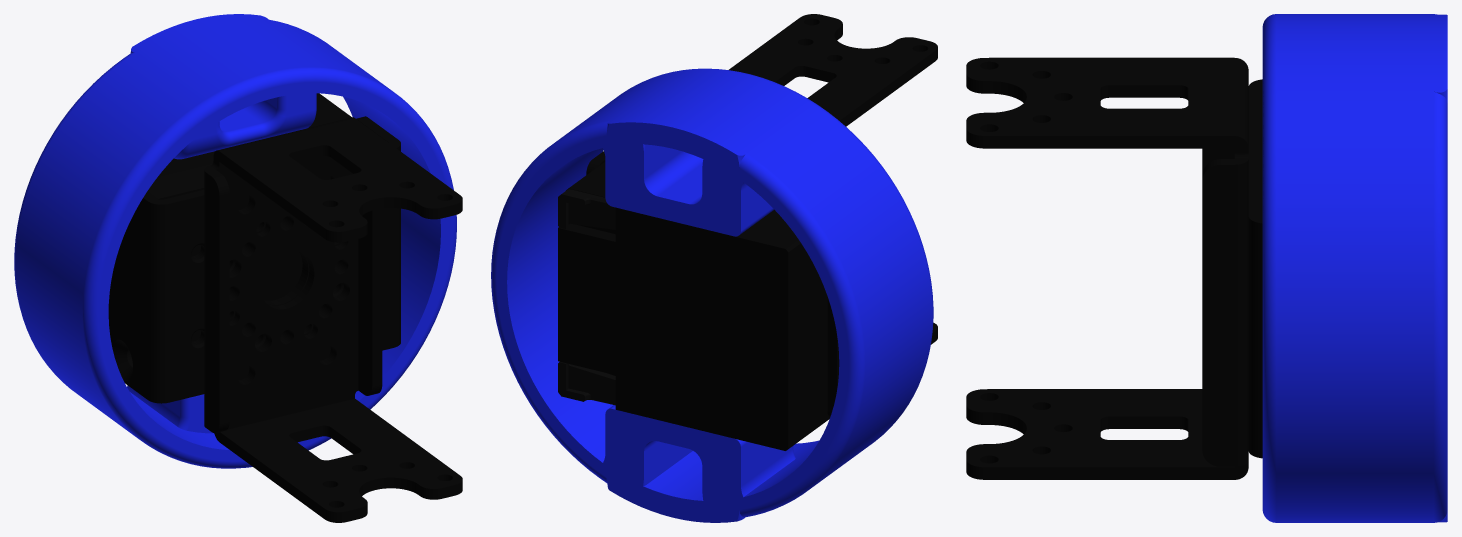
Rendered from tail_color.obj.
The picture shows the model from 3 angles, left to right: view 1: azimuth 30°, elevation 25°; view 2: azimuth 150°, elevation 25°; view 3: azimuth 270°, elevation 25°; orthographic projection. The views are drawn at different scales.
Parts seen in each view (by area): view 1: 솔리드1:1, 솔리드1:3, 솔리드1:2, 솔리드1; view 2: 솔리드1:1, 솔리드1, 솔리드1:3, 솔리드10, 솔리드1:2; view 3: 솔리드1:1, 솔리드1:3, 솔리드1:2.
Part boxes in pixels (bbox=[...]): 솔리드1:1: bbox=[14, 14, 456, 468]; 솔리드1:3: bbox=[204, 117, 462, 522]; 솔리드1:2: bbox=[111, 116, 400, 403]; 솔리드1: bbox=[108, 93, 351, 341]; 솔리드1:1: bbox=[491, 68, 933, 522]; 솔리드1: bbox=[558, 162, 829, 450]; 솔리드1:3: bbox=[729, 14, 937, 344]; 솔리드10: bbox=[558, 189, 615, 405]; 솔리드1:2: bbox=[586, 151, 839, 417]; 솔리드1:1: bbox=[1262, 14, 1447, 522]; 솔리드1:3: bbox=[966, 57, 1248, 479]; 솔리드1:2: bbox=[1248, 79, 1262, 458].
Bounding box in the file's own units: 0.055 × 0.055 × 0.052.
